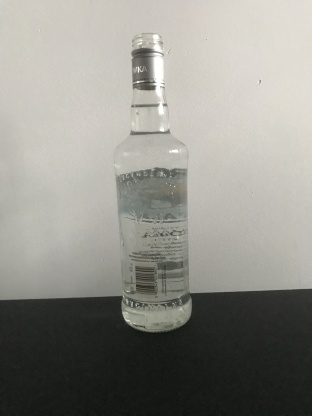nakretka: (129, 30, 166, 90)
